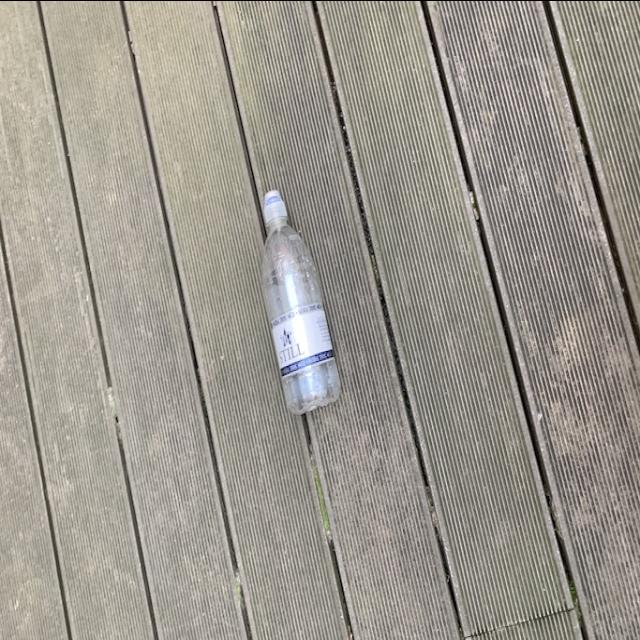PET: (253, 185, 347, 413)
